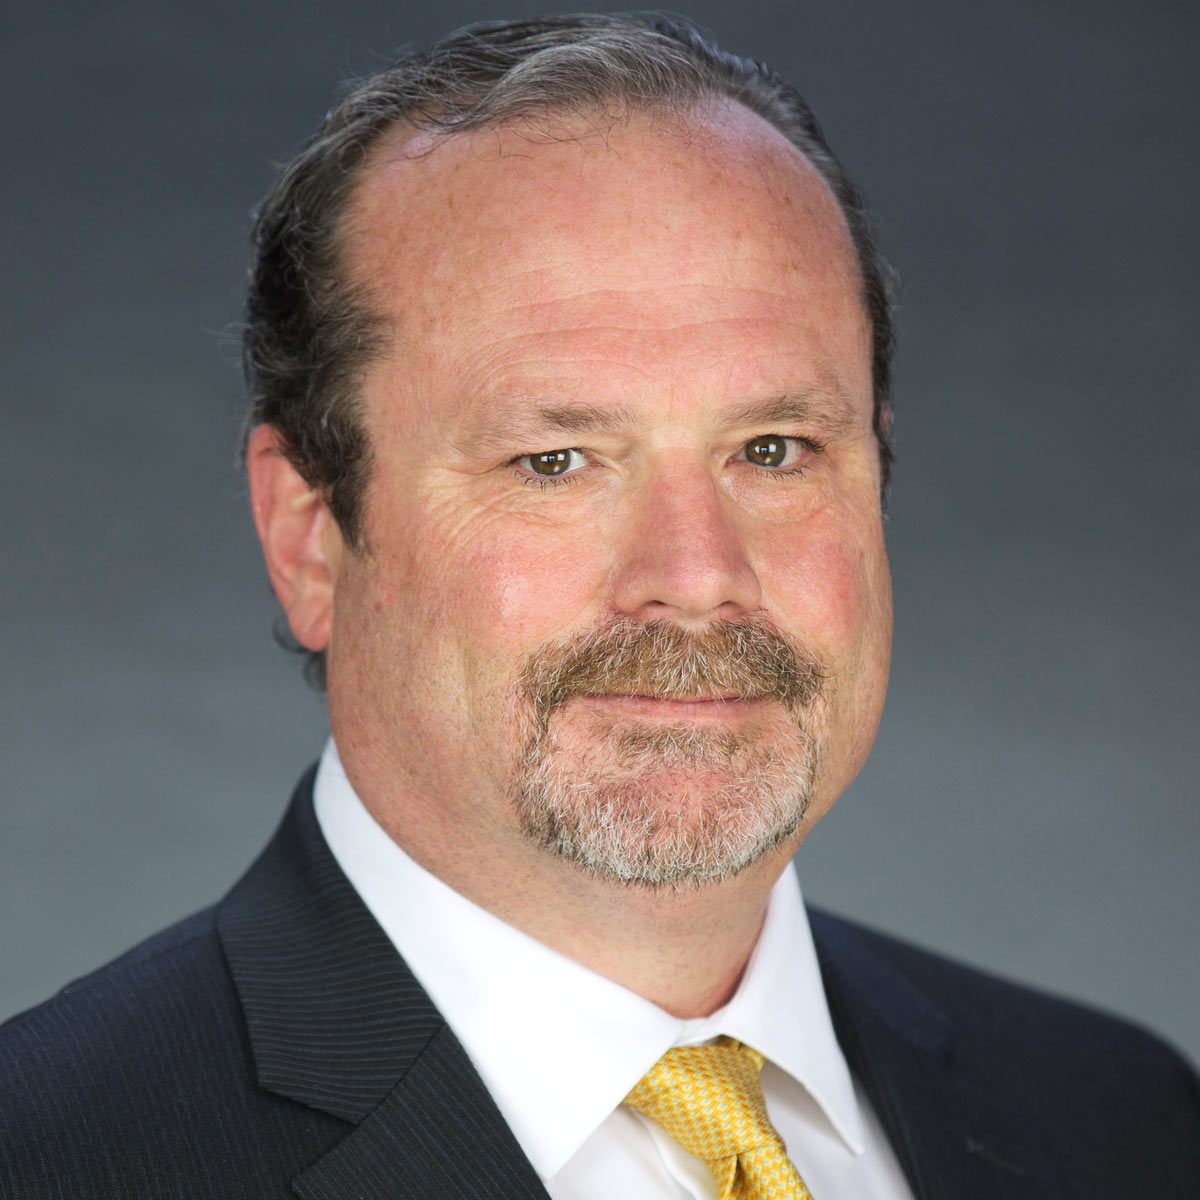stroke: (401, 260, 904, 882)
